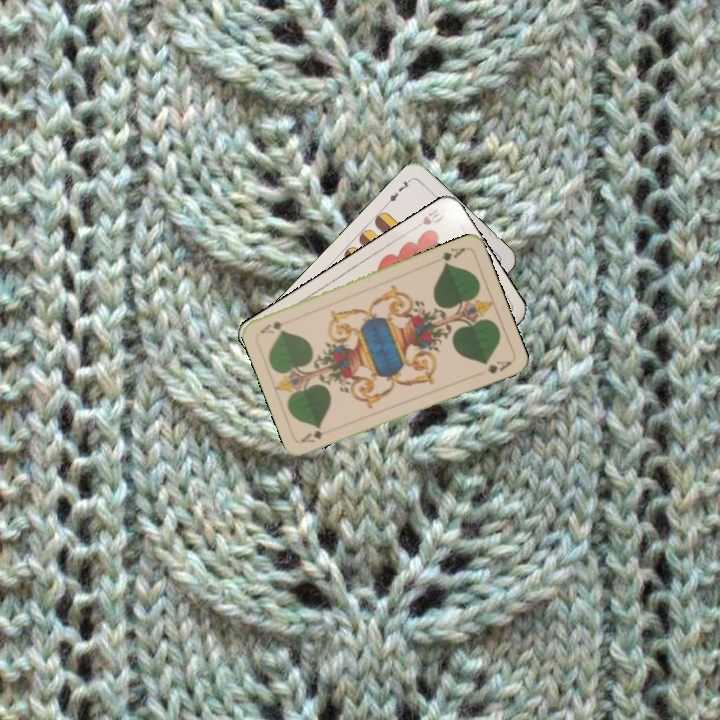E7: (382, 174, 414, 207)
GA: (297, 424, 336, 445), (438, 243, 468, 268)
H10: (410, 205, 446, 232)
